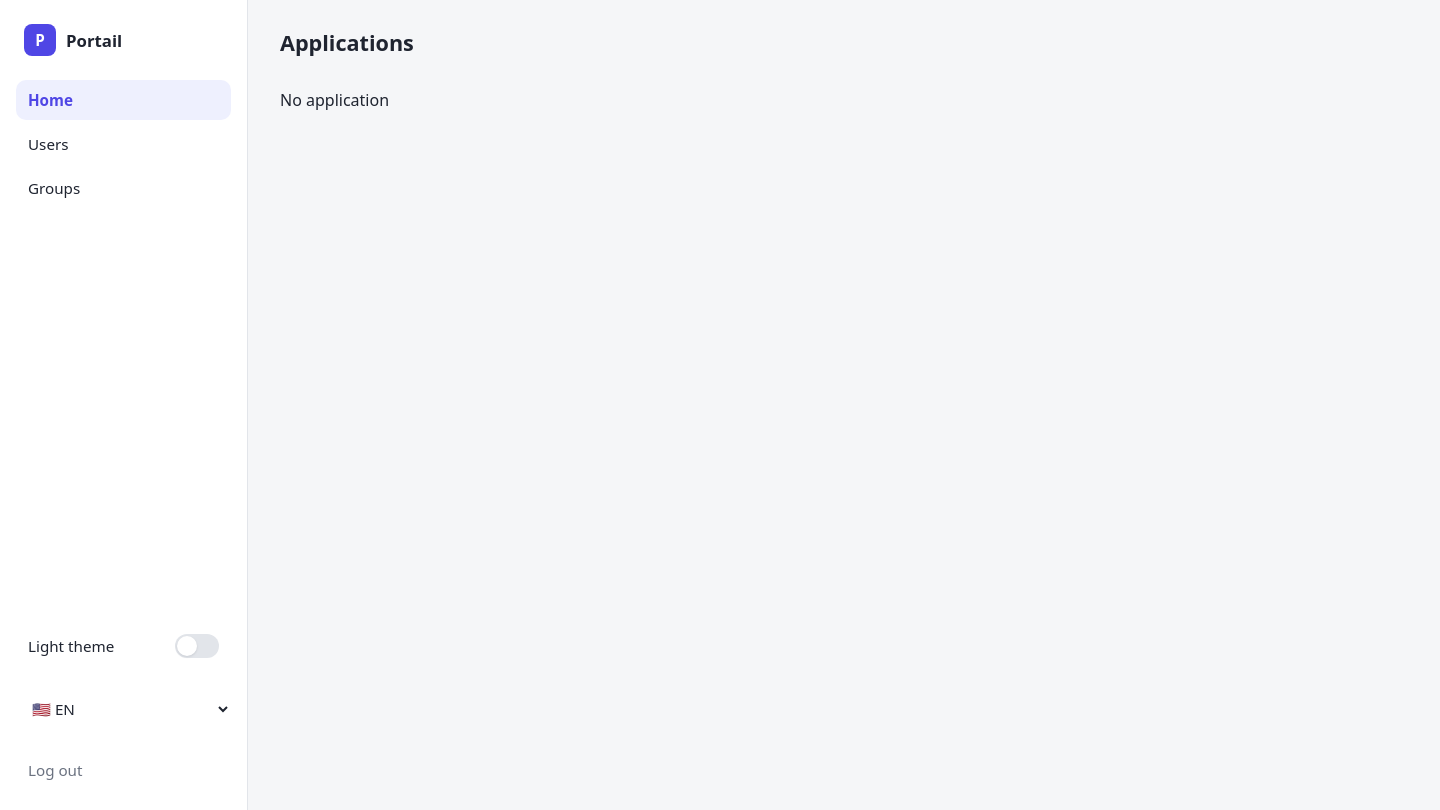
it: switches to groups tab
Expected: the text "No application" is shown, 280,89 -> 389,111
Click the button with test id "tab-groups" at point(124, 188), box 16,168 -> 231,208
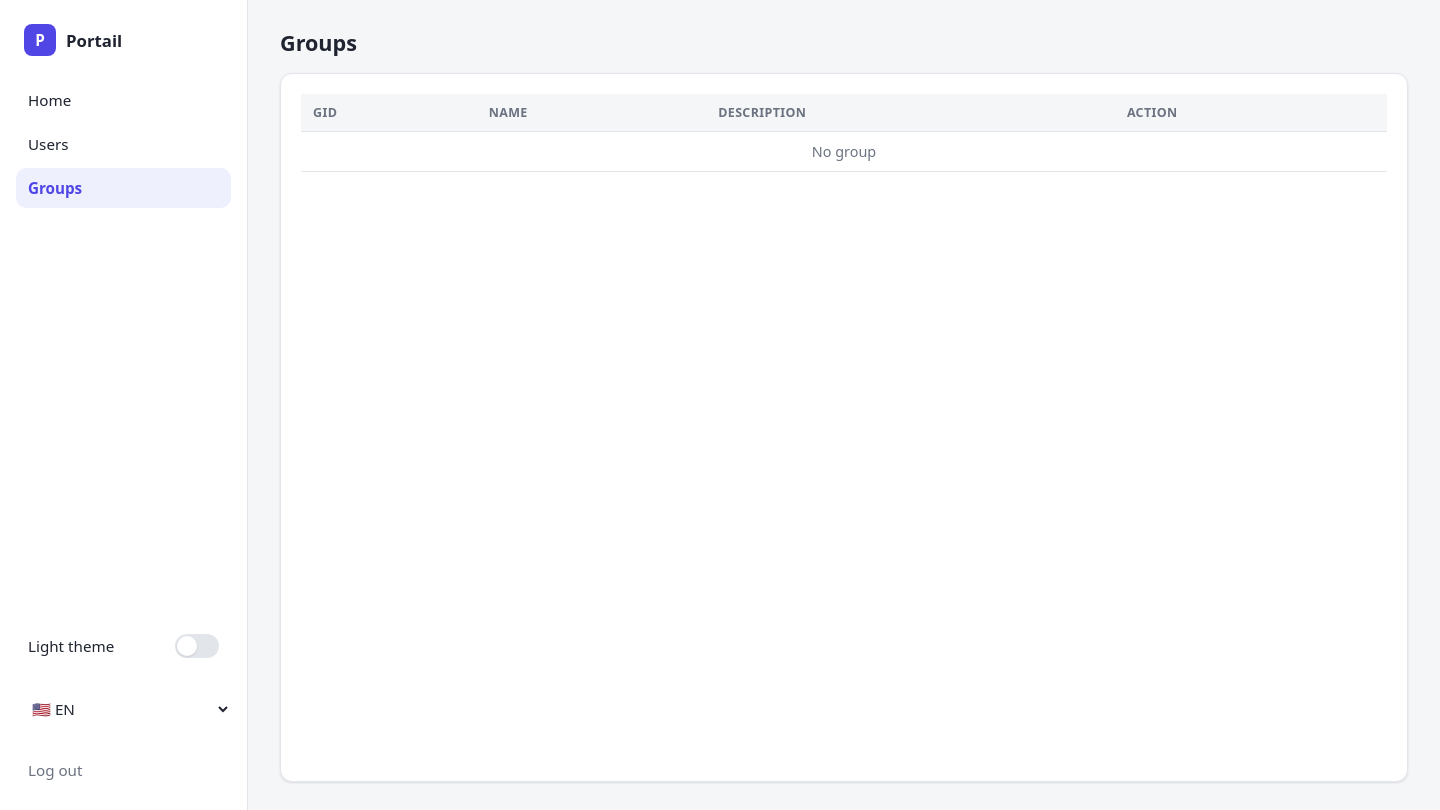
Now the table with test id "groups-table" is shown, box 301,94 -> 1387,172
